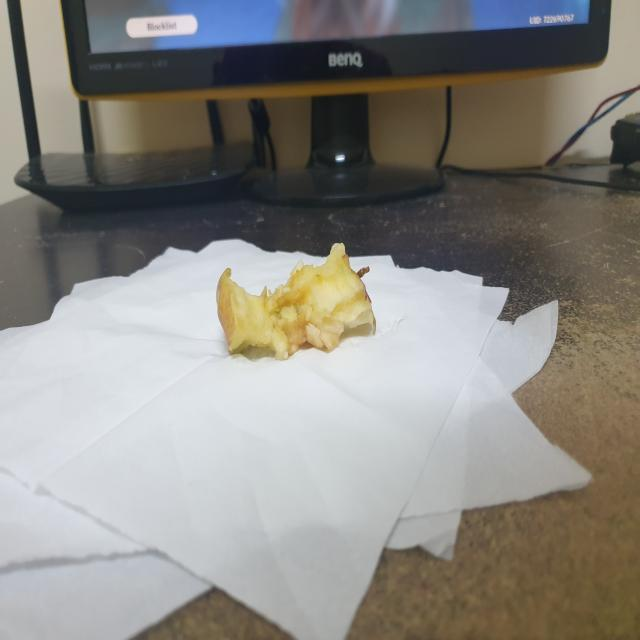apple: (201, 238, 380, 376)
